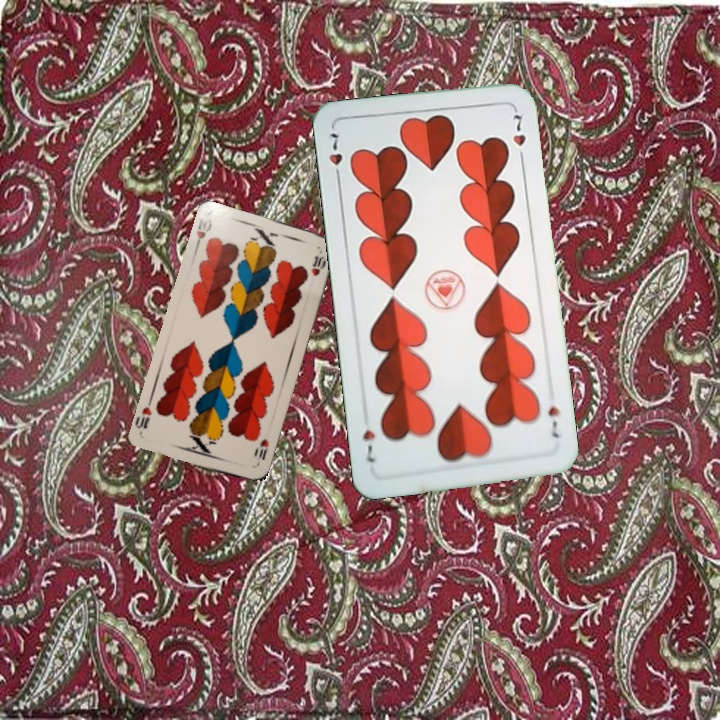H10: (191, 215, 215, 253), (253, 434, 271, 469)
H7: (325, 129, 345, 185), (544, 402, 562, 441)
